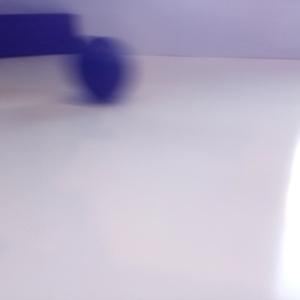zone: (1, 13, 79, 58)
